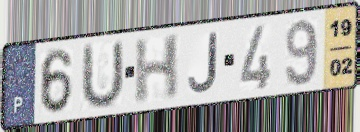4: (238, 22, 274, 92)
6: (38, 46, 77, 116)
9: (283, 17, 320, 87)
H: (133, 32, 183, 108)
J: (186, 30, 220, 96)
U: (78, 37, 126, 113)
